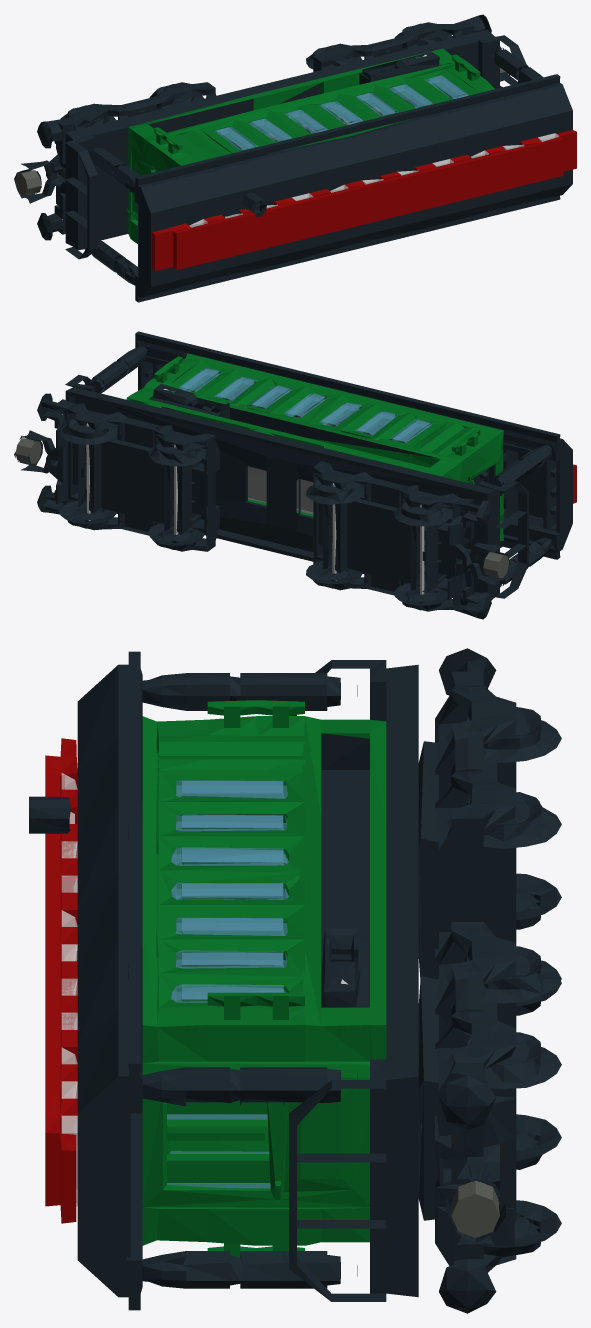
Rendered from passenger-wagon.glb.
3 views of the same model, one above another, from view 1: azimuth 30°, elevation 25°; view 2: azimuth 150°, elevation 25°; view 3: azimuth 270°, elevation 25° (orthographic). The views are drawn at different scales.
Bounding box in the file's own units: 219 × 57.82 × 105.
